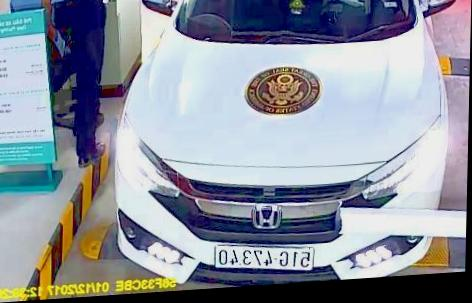License_Plate: (209, 239, 320, 275)
